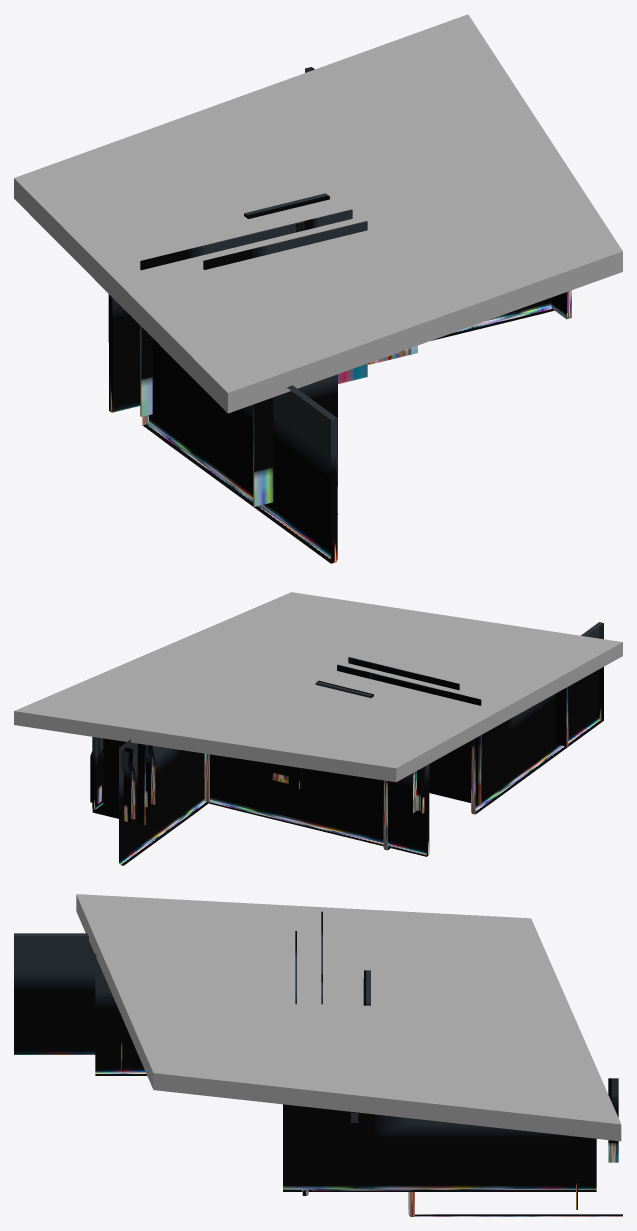
The model's file is Stage2Collider (4).fbx.
3 views of the same model, one above another, from view 1: azimuth 30°, elevation 25°; view 2: azimuth 150°, elevation 25°; view 3: azimuth 270°, elevation 25° (orthographic). The views are drawn at different scales.
Visible parts, largest first — view 1: Collider.056, Collider.080, Collider.072, Collider.032, Collider.011, Collider.009, Collider.096; view 2: Collider.056, Collider.072, Collider.080, Collider.090, Collider.011, Collider.024, Collider.089, Collider.032, Collider.009, Collider.088, Collider.064, Collider.071 (+3 smaller); view 3: Collider.056, Collider.064, Collider.080, Collider.084, Collider.090, Collider.089.
Part boxes in pixels (box(x1,y1,x2,y2)): Collider.056: box(14, 14, 622, 413); Collider.080: box(142, 338, 337, 563); Collider.072: box(109, 294, 140, 412); Collider.032: box(253, 374, 337, 506); Collider.011: box(140, 221, 304, 416); Collider.009: box(203, 221, 367, 384); Collider.096: box(431, 298, 554, 340); Collider.056: box(14, 592, 622, 782); Collider.072: box(204, 753, 429, 856); Collider.080: box(471, 622, 603, 814); Collider.090: box(119, 739, 209, 865); Collider.011: box(369, 673, 481, 805); Collider.024: box(92, 738, 145, 825); Collider.089: box(121, 747, 135, 822); Collider.032: box(554, 687, 568, 746); Collider.009: box(348, 657, 459, 689); Collider.088: box(145, 745, 155, 807); Collider.064: box(92, 737, 103, 809); Collider.071: box(413, 766, 424, 814); Collider.056: box(76, 894, 621, 1141); Collider.064: box(283, 1104, 596, 1191); Collider.080: box(14, 933, 95, 1054); Collider.084: box(95, 953, 147, 1075); Collider.090: box(415, 1214, 622, 1216); Collider.089: box(608, 1078, 618, 1162).
Bounding box in the file's own units: 61730 × 20349 × 68945.
